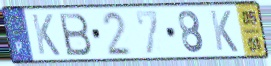2: (100, 9, 133, 57)
7: (134, 9, 161, 56)
8: (177, 9, 204, 54)
B: (57, 11, 94, 57)
K: (207, 8, 240, 54), (29, 12, 62, 57)
